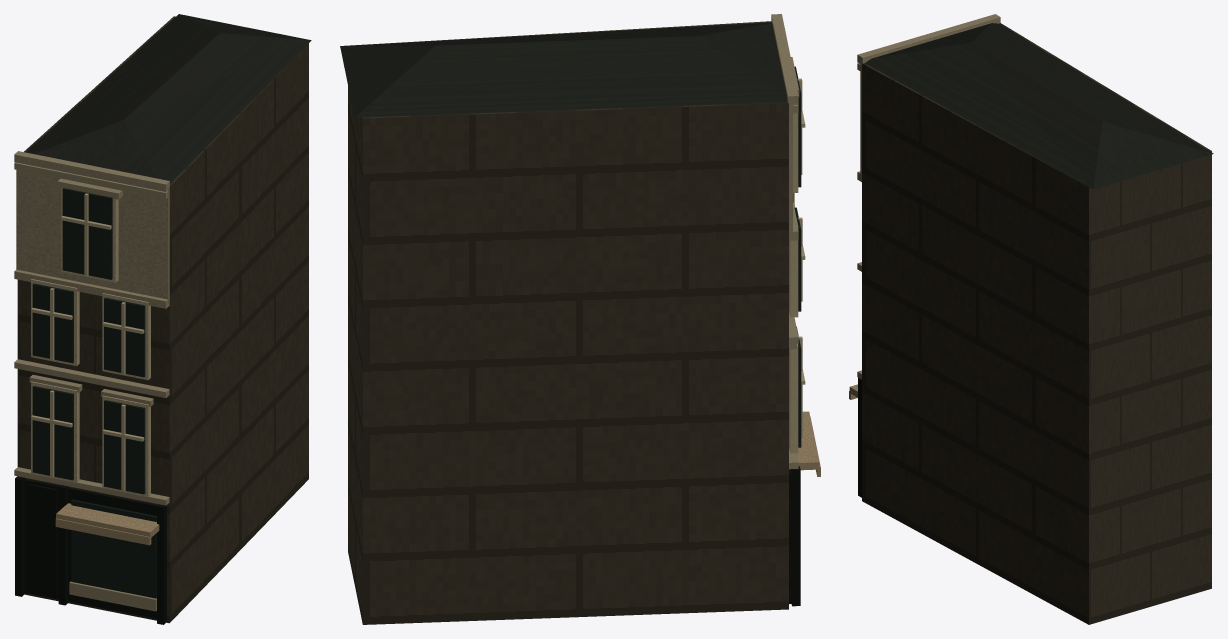
3 renders of one model, left to right at view 1: azimuth 30°, elevation 25°; view 2: azimuth 150°, elevation 25°; view 3: azimuth 270°, elevation 25°, orthographic. The views are drawn at different scales.
Parts seen in each view (by area): view 1: delftsevaart25-0, delftsevaart25-1, delftsevaart25-3, delftsevaart25-4, delftsevaart25-5, delftsevaart25-2, delftsevaart25-6; view 2: delftsevaart25-0, delftsevaart25-1, delftsevaart25-2, delftsevaart25-4, delftsevaart25-5, delftsevaart25-3, delftsevaart25-6; view 3: delftsevaart25-0, delftsevaart25-1, delftsevaart25-4.
Part boxes in pixels (x1,y1,x2,y2): delftsevaart25-0: (17,16,308,623); delftsevaart25-1: (26,14,311,183); delftsevaart25-3: (32,188,156,598); delftsevaart25-4: (14,151,169,611); delftsevaart25-5: (15,476,166,624); delftsevaart25-2: (31,188,150,497); delftsevaart25-6: (55,503,159,545); delftsevaart25-0: (348,21,788,624); delftsevaart25-1: (340,22,787,117); delftsevaart25-2: (789,78,805,453); delftsevaart25-4: (771,14,799,469); delftsevaart25-5: (789,466,800,606); delftsevaart25-3: (793,66,801,447); delftsevaart25-6: (797,411,820,476); delftsevaart25-0: (862,23,1211,624); delftsevaart25-1: (865,23,1213,189); delftsevaart25-4: (857,14,1000,379).
Bounding box in the file's own units: 8.69 × 11.05 × 7.89.
7 materials, 7 textured.
